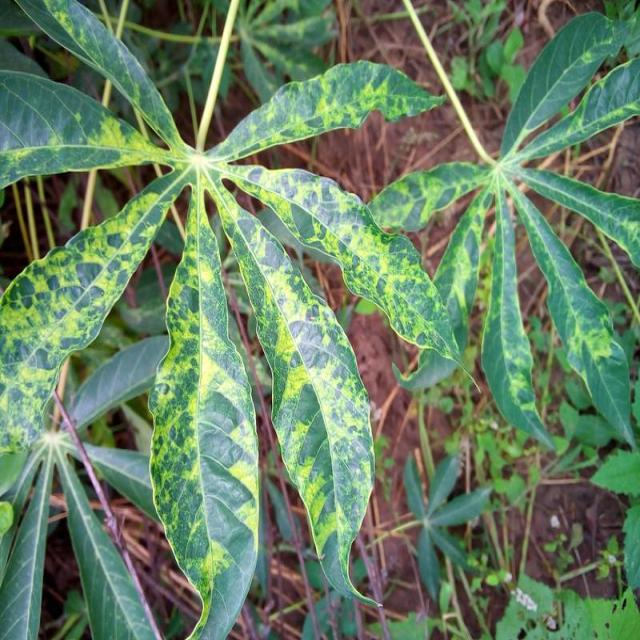cassava leaf: (0, 0, 463, 638), (206, 172, 380, 608), (146, 178, 260, 638)
